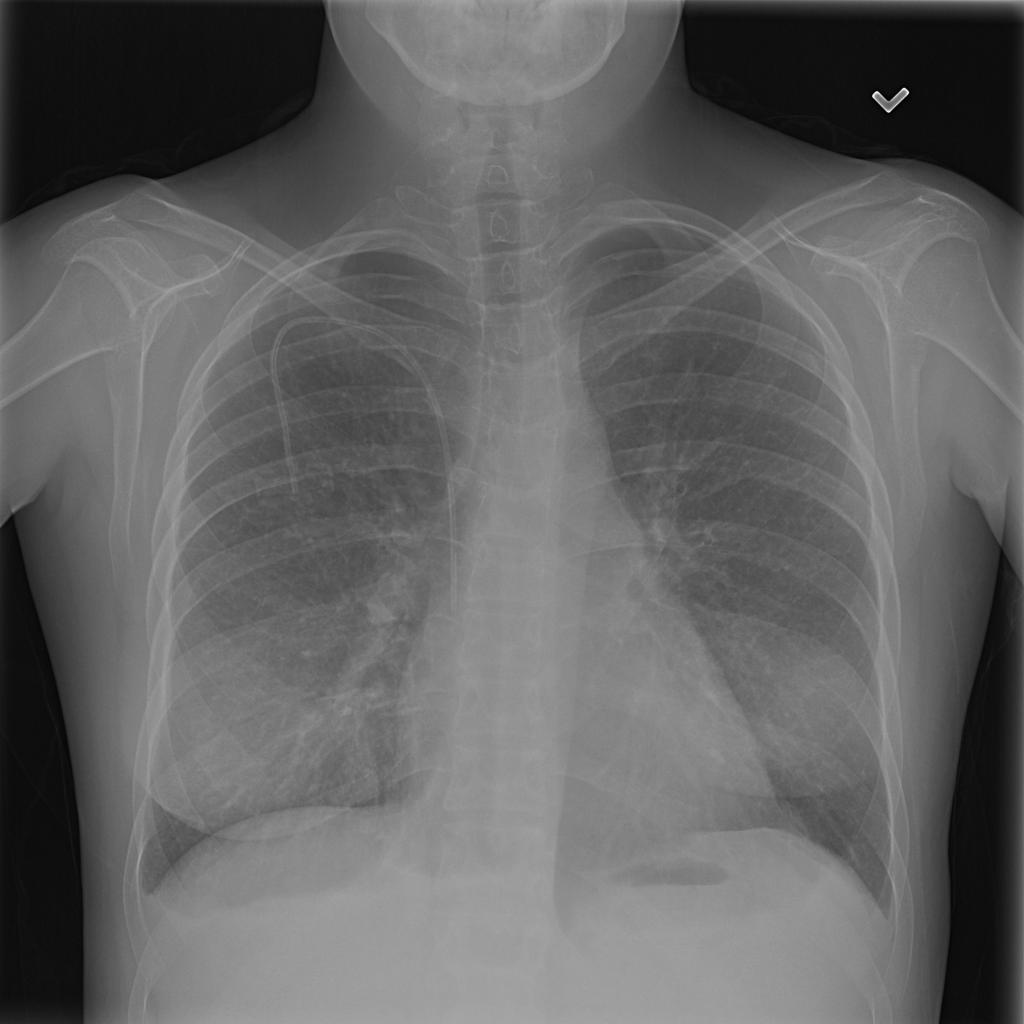nodule: (729, 623, 882, 804)
